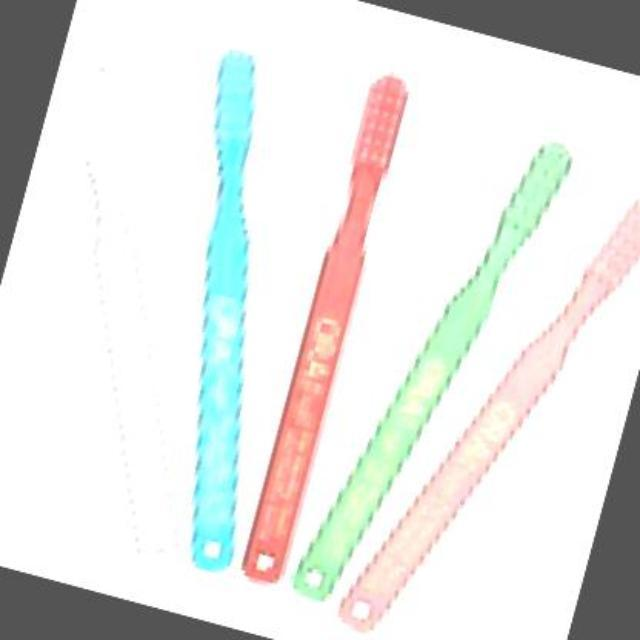toothbrush: (72, 31, 358, 575), (218, 42, 444, 608), (422, 98, 602, 418)
